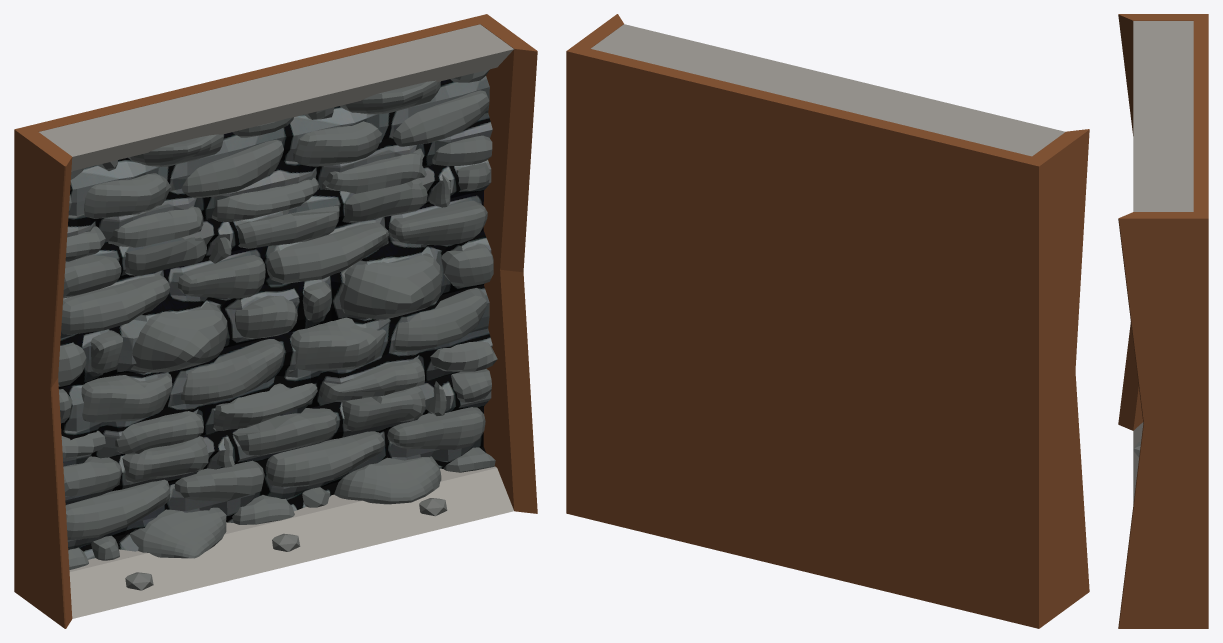
The model's file is Wall_game_ready.glb.
3 views of the same model, side by side, from view 1: azimuth 30°, elevation 25°; view 2: azimuth 150°, elevation 25°; view 3: azimuth 270°, elevation 25° (orthographic). The views are drawn at different scales.
Visible parts, largest first — view 1: Cube.010, Cube.001, Cube.002, Cube.004; view 2: Cube.001, Cube.002; view 3: Cube.001, Cube.002.
Part boxes in pixels (x1,y1,x2,y2): Cube.010: (58,69,497,569); Cube.001: (14,14,537,628); Cube.002: (39,24,513,618); Cube.004: (125,498,447,590); Cube.001: (566,14,1089,628); Cube.002: (591,24,1065,156); Cube.001: (1118,14,1208,628); Cube.002: (1133,21,1193,503).
Size of the model in its own units: 6.42 by 6 by 1.2.
Materials: 4 (1 with a texture image).
